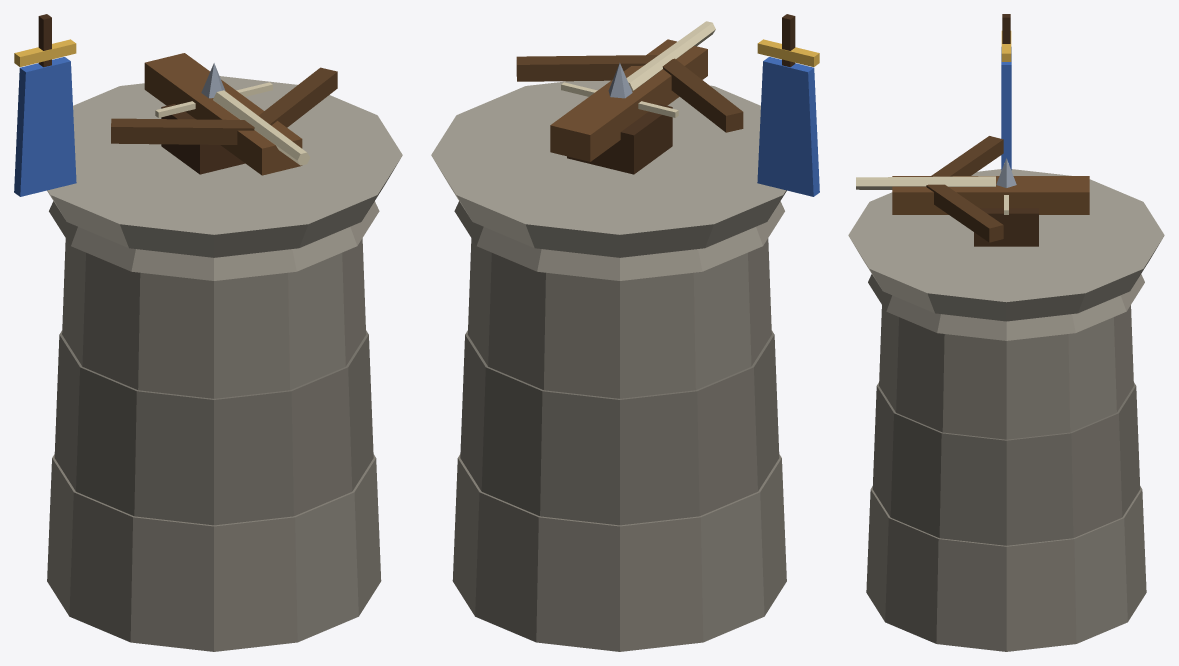
The model's file is tower_sniper_l1.glb.
The picture shows the model from 3 angles, left to right: view 1: azimuth 30°, elevation 25°; view 2: azimuth 150°, elevation 25°; view 3: azimuth 270°, elevation 25°; orthographic projection. The views are drawn at different scales.
Visible parts, largest first — view 1: Body, Turret; view 2: Body, Turret; view 3: Body, Turret.
Part boxes in pixels (x1=…): Body: x1=14, y1=14, x2=402, y2=651; Turret: x1=111, y1=53, x2=337, y2=175; Body: x1=431, y1=14, x2=819, y2=651; Turret: x1=516, y1=21, x2=743, y2=174; Body: x1=848, y1=14, x2=1164, y2=651; Turret: x1=856, y1=136, x2=1089, y2=246.
Size of the model in its own units: 0.6725 by 1.08 by 0.61.
